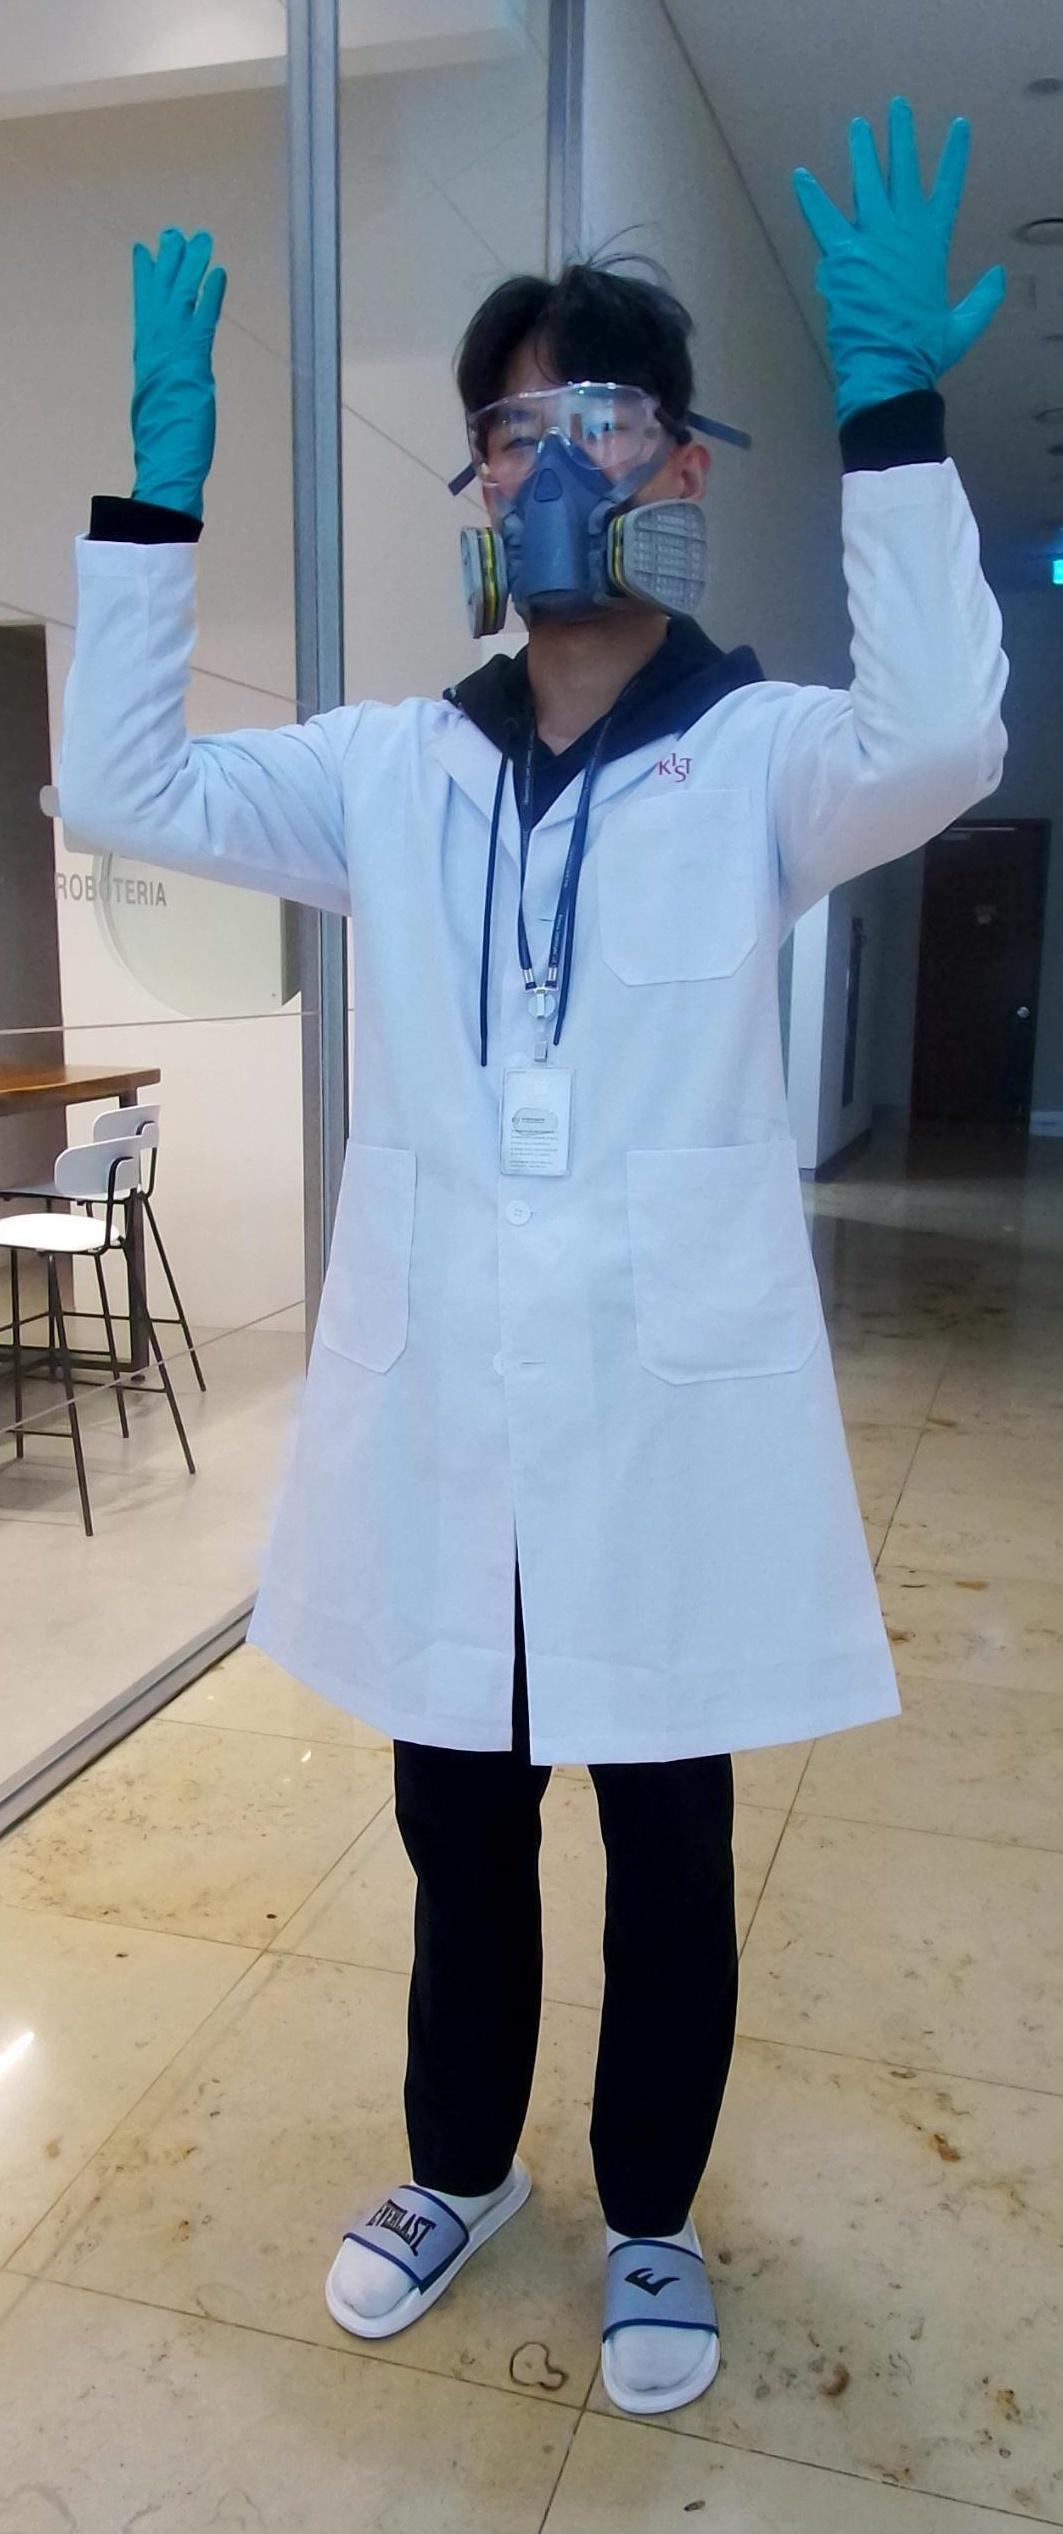lab_coat: (260, 680, 880, 1745)
